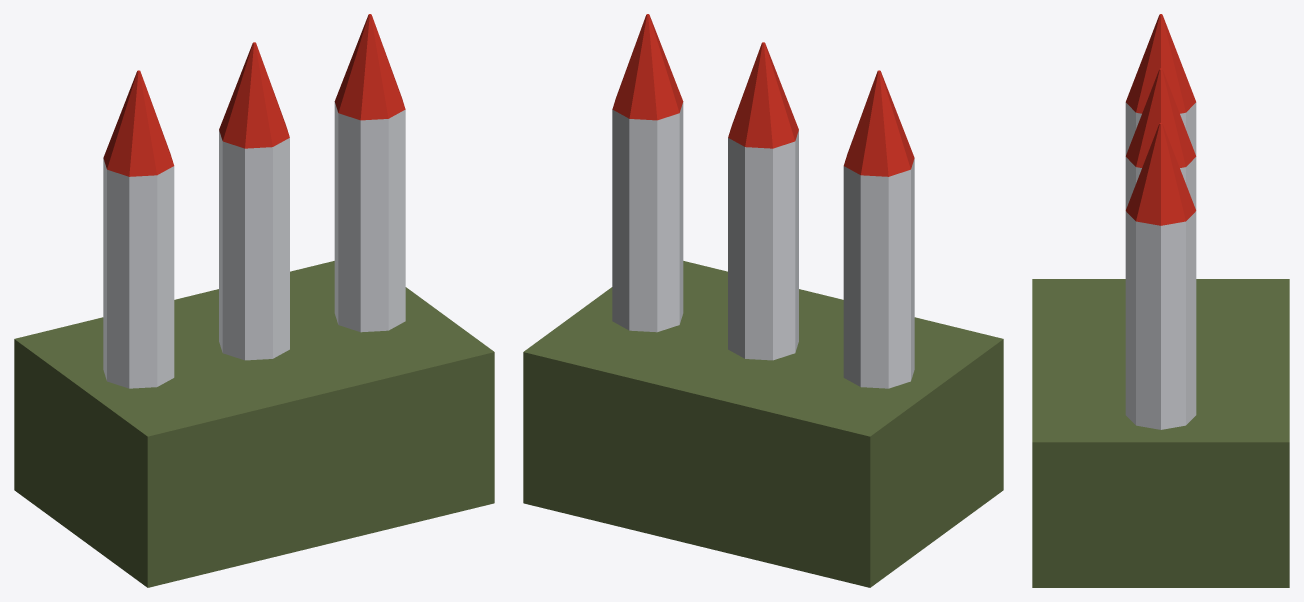
The model's file is decoy_warhead.obj.
3 views of the same model, side by side, from view 1: azimuth 30°, elevation 25°; view 2: azimuth 150°, elevation 25°; view 3: azimuth 270°, elevation 25° (orthographic). The views are drawn at different scales.
Parts seen in each view (by area): view 1: decoy_warhead; view 2: decoy_warhead; view 3: decoy_warhead.
Boxes of the visible parts, x1,y1,x2,y2 form: decoy_warhead: (14,14,494,587); decoy_warhead: (523,14,1003,587); decoy_warhead: (1032,14,1289,587).
Size of the model in its own units: 0.24 by 0.3 by 0.16.
